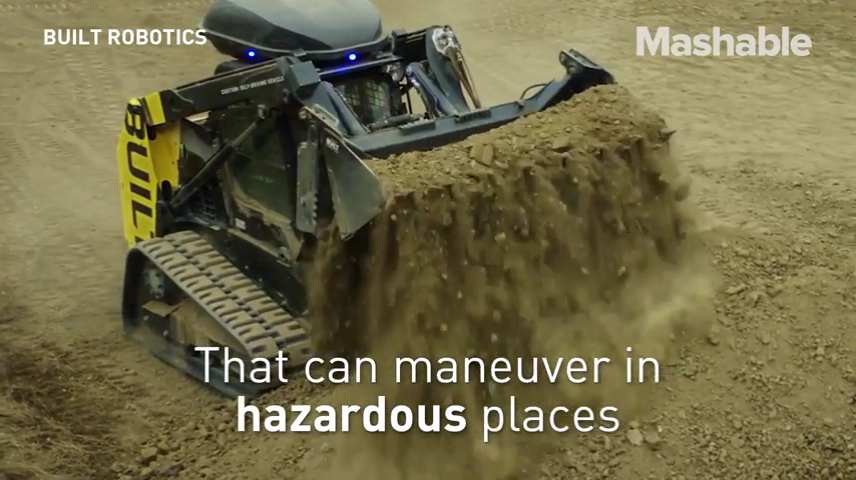con_eq: (113, 4, 659, 403)
